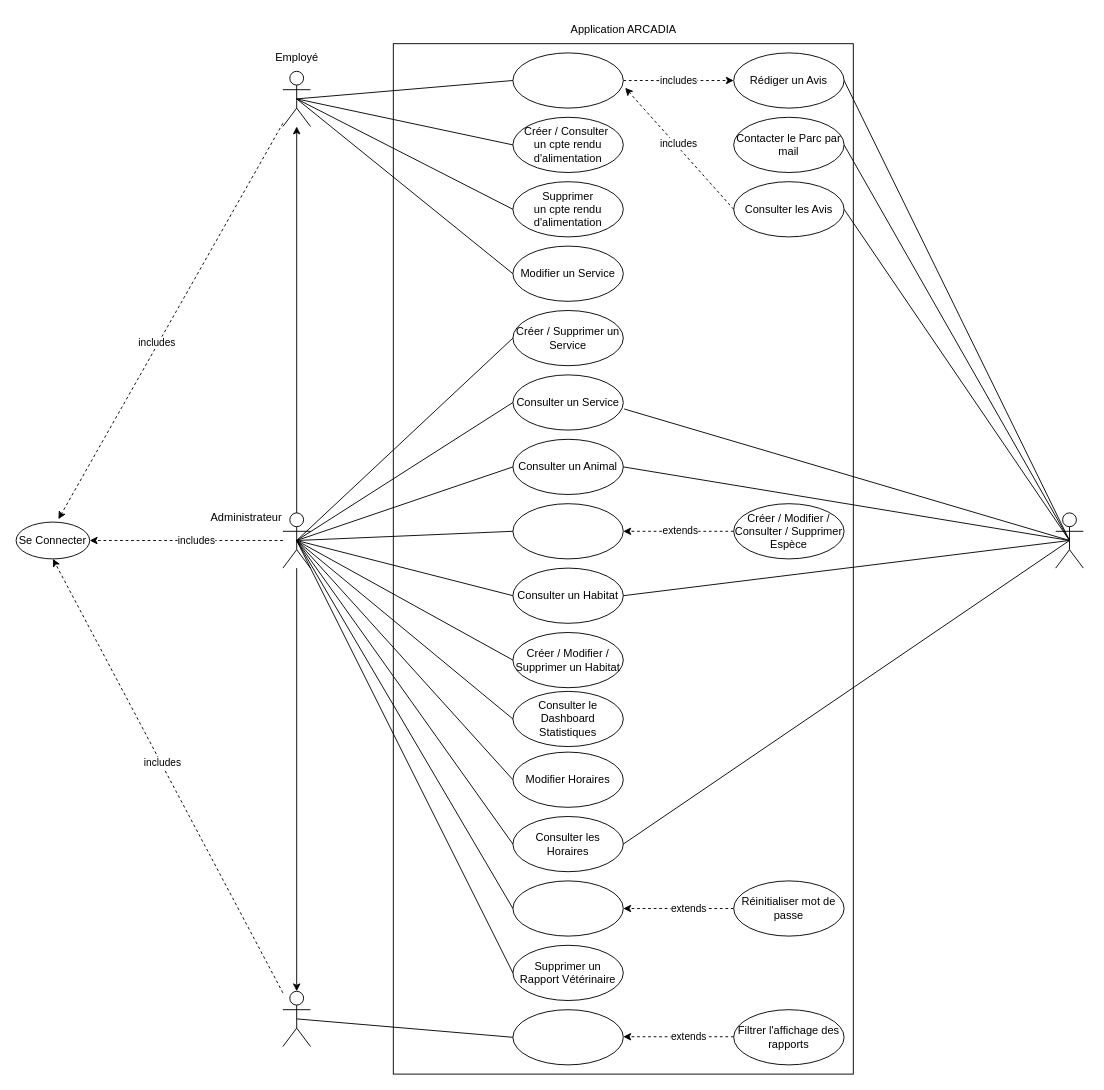
Image size: 1104x1090. Some labels were removed from this diagram. The centre of each missing label's shape, as x and y in pixels:
Créer / Consulter un rapport Vétérinaire: the point at 567,1037
Créer / Modifier / Consulter / Supprimer Compte Utilisateur: the point at 567,908
Créer / Modifier / Supprimer un Animal: the point at 567,531
Valider un avis: the point at 567,80
Visiteur: the point at 1069,540
Vétérinaire: the point at 296,1018
